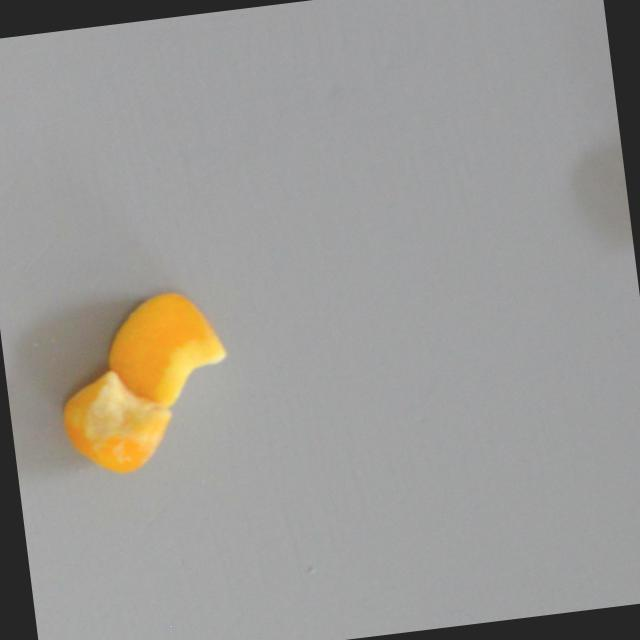no_canjicado: (98, 285, 230, 414)
pelicula: (54, 362, 176, 480)
